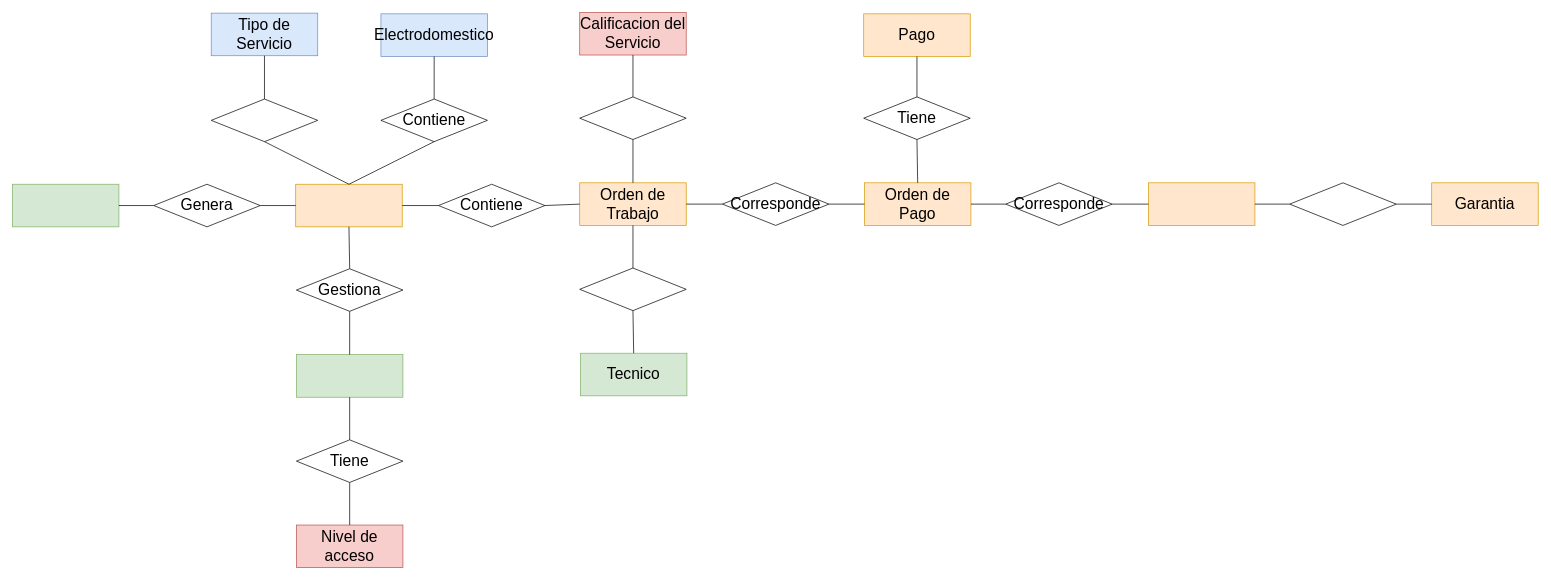
This 1551x580 diagram has some shape labels left out. The shapes that lost their labels are listed below. From the top down, each one's centre as x and y in pixels, then its label:
At (x=264, y=120): "Especifica".
At (x=632, y=118): "Recibe".
At (x=65, y=205): "Cliente".
At (x=348, y=205): "Solicitud de Servicio".
At (x=1201, y=203): "Factura".
At (x=1342, y=203): "Vincula".
At (x=632, y=289): "Efectua".
At (x=349, y=375): "Administrador".
